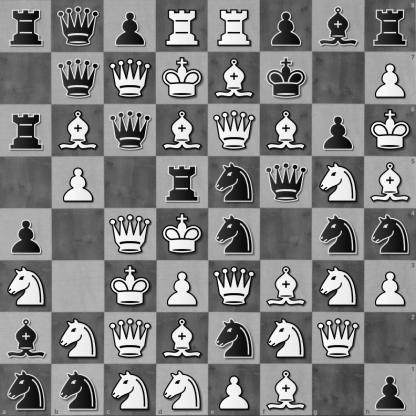B: (364, 156, 416, 209), (260, 364, 312, 416), (53, 105, 104, 156), (157, 105, 208, 156), (157, 313, 208, 364), (209, 53, 260, 104), (261, 105, 312, 156), (261, 261, 312, 312)
K: (364, 104, 416, 156), (105, 261, 156, 312), (157, 53, 208, 104), (157, 209, 208, 260)
N: (156, 364, 209, 416), (104, 364, 156, 416), (1, 261, 52, 312), (53, 313, 104, 364), (261, 313, 312, 364), (313, 157, 364, 208), (313, 261, 364, 312)
P: (364, 52, 416, 104), (364, 260, 416, 312), (209, 364, 260, 416), (53, 157, 104, 208), (157, 261, 208, 312)
Q: (105, 53, 156, 104), (105, 209, 156, 260), (105, 313, 156, 364), (209, 105, 260, 156), (209, 261, 260, 312), (313, 313, 364, 364)
R: (157, 1, 208, 52), (209, 1, 260, 52)
b: (1, 313, 52, 364), (313, 1, 364, 52)
board: (0, 0, 415, 415)
k: (261, 53, 312, 104)
n: (0, 364, 52, 416), (52, 364, 104, 416), (364, 209, 416, 260), (209, 157, 260, 208), (209, 209, 260, 260), (209, 313, 260, 364), (313, 209, 364, 260)
p: (364, 364, 416, 416), (1, 209, 52, 260), (105, 1, 156, 52), (261, 1, 312, 52), (313, 105, 364, 156)
q: (53, 1, 104, 52), (53, 53, 104, 104), (105, 105, 156, 156), (261, 157, 312, 208)
r: (364, 0, 416, 52), (1, 1, 52, 52), (1, 105, 52, 156), (157, 157, 208, 208)
